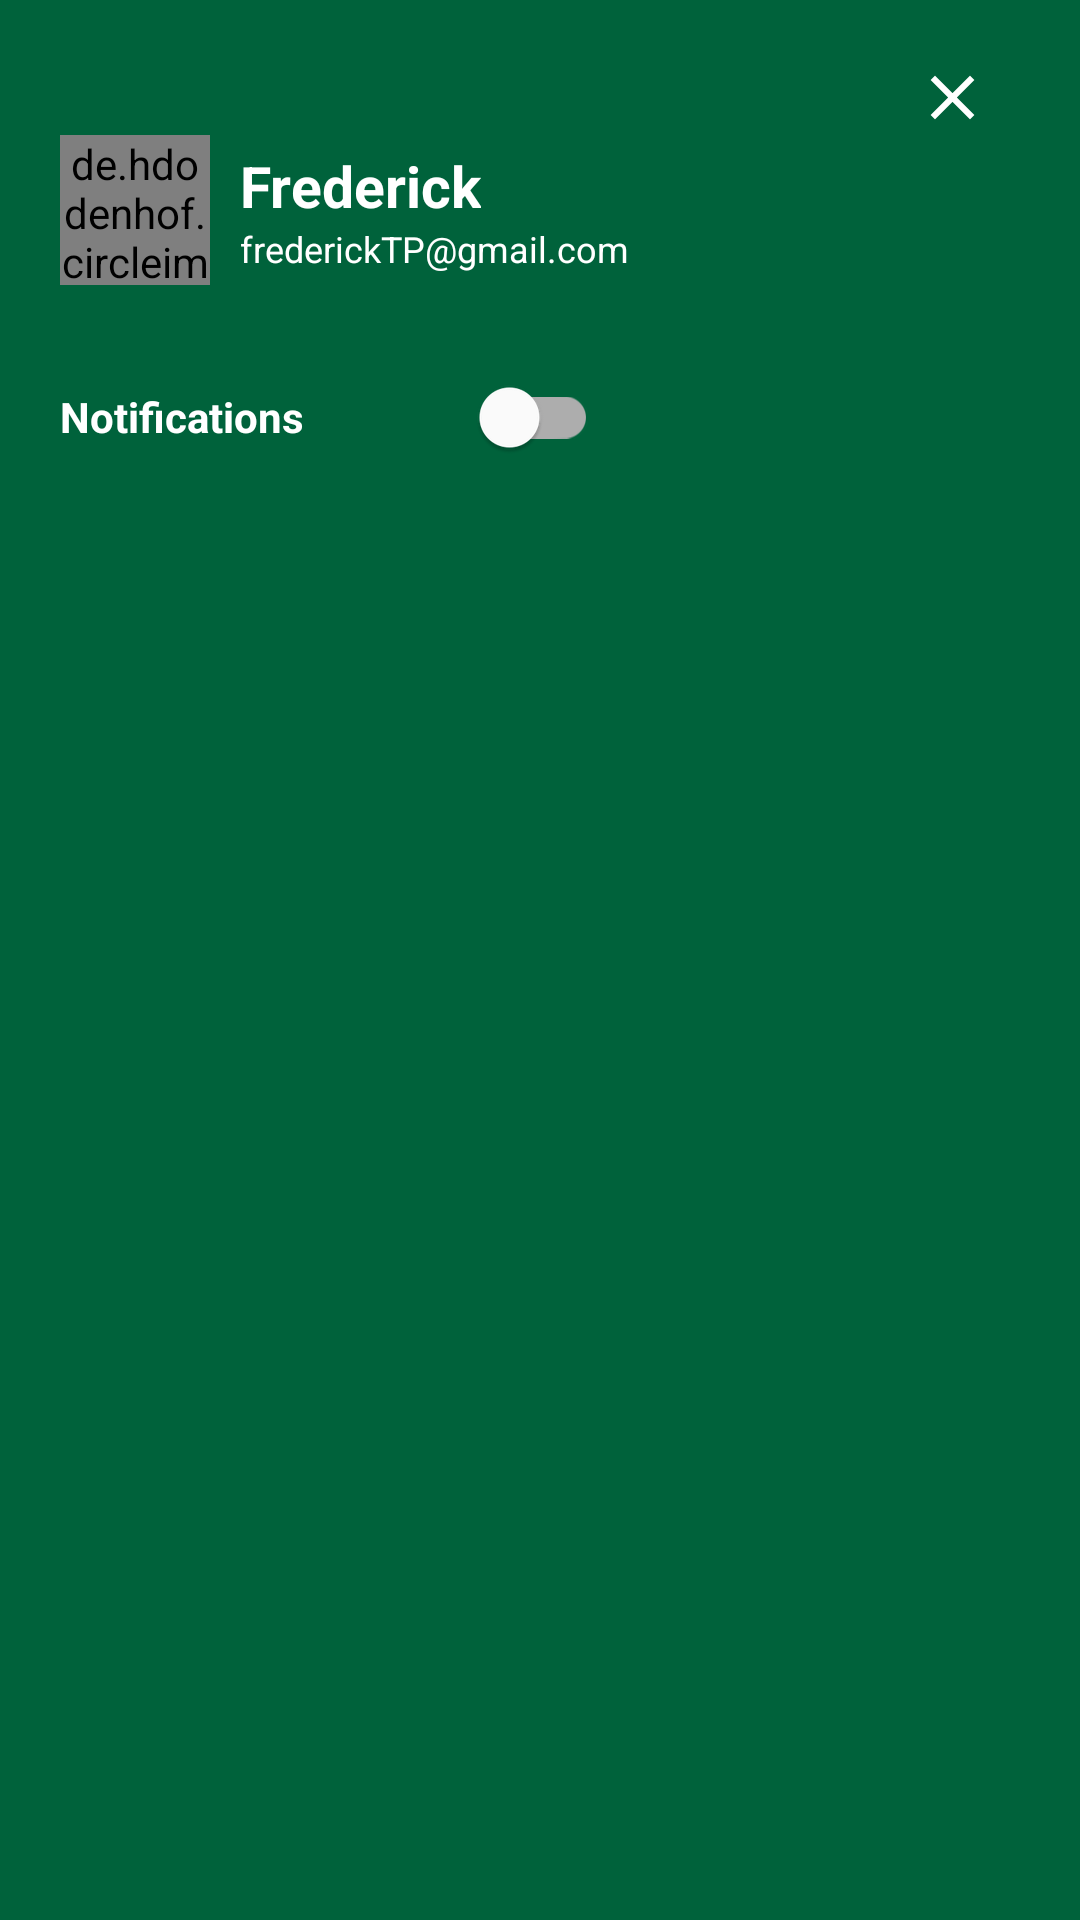

Icons on this 1080×1920 Android screen, each with its box as [x1=x1, y1=y1, x2=x2, y2=y2]:
close: [x1=931, y1=76, x2=974, y2=119]
